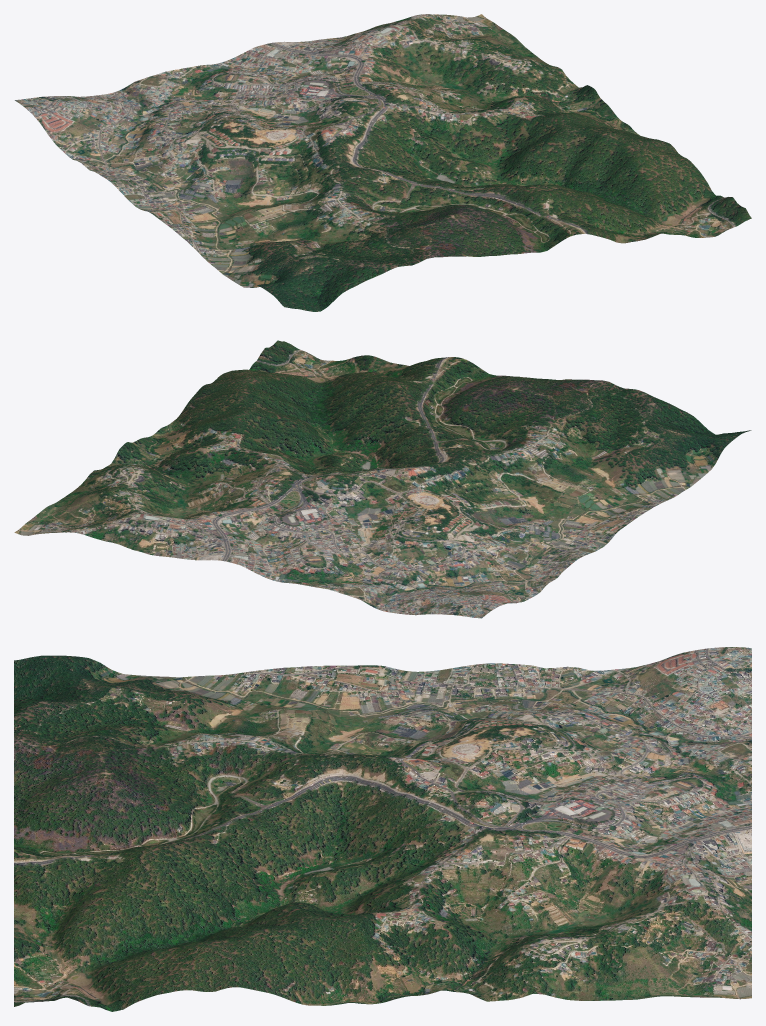
Rendered from terrain_real_T_E00_S01.glb.
3 views of the same model, one above another, from view 1: azimuth 30°, elevation 25°; view 2: azimuth 150°, elevation 25°; view 3: azimuth 270°, elevation 25° (orthographic). The views are drawn at different scales.
Parts seen in each view (by area): view 1: TerrainReal_T_E00_S01; view 2: TerrainReal_T_E00_S01; view 3: TerrainReal_T_E00_S01.
Part boxes in pixels (x1,y1,x2,y2): TerrainReal_T_E00_S01: (14,14,751,311); TerrainReal_T_E00_S01: (14,340,751,618); TerrainReal_T_E00_S01: (14,647,751,1011).
Bounding box in the file's own units: 2000 × 230 × 2000.
Materials: 1 (1 with a texture image).
